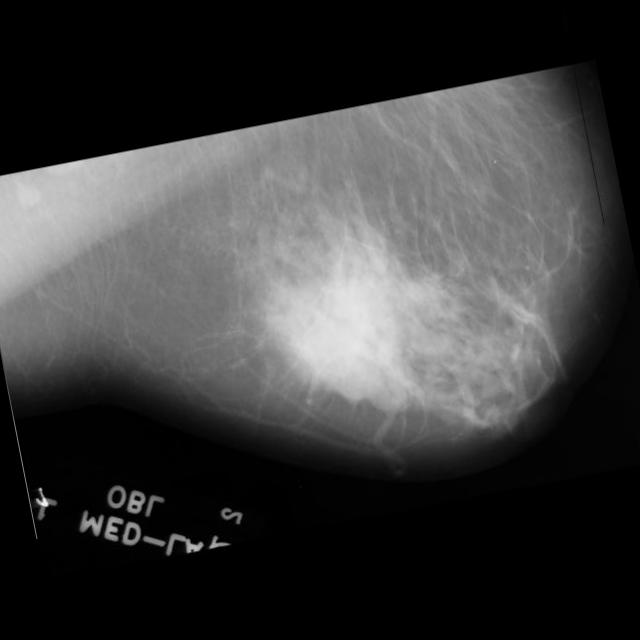ASYM: (251, 232, 442, 423)
